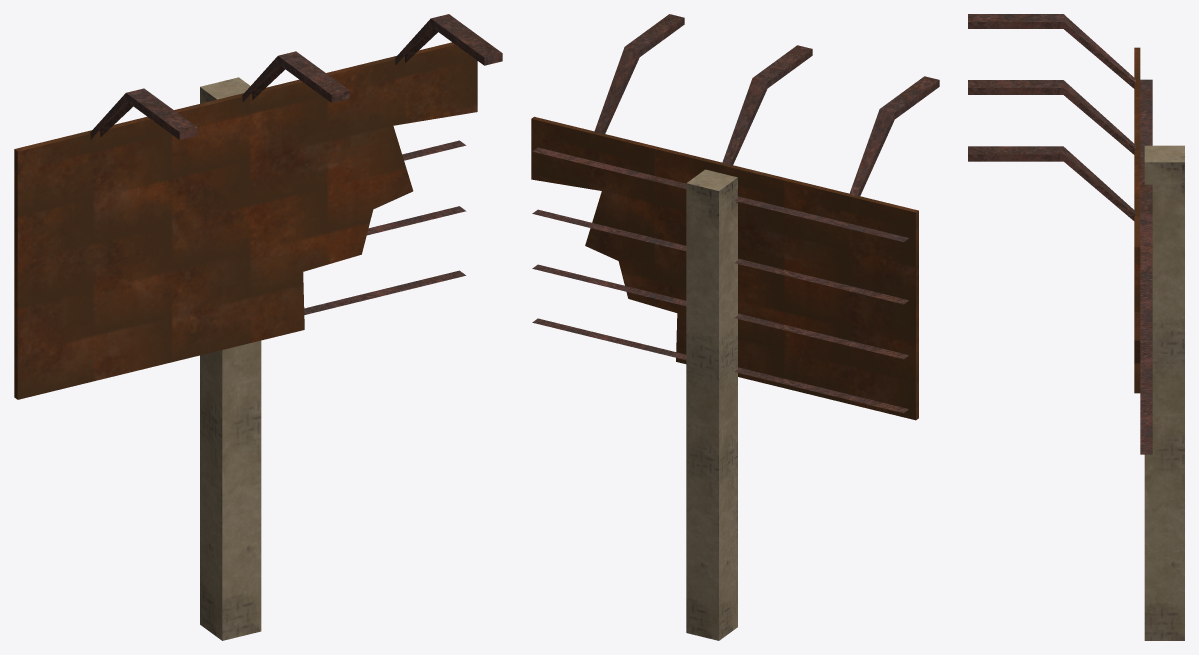
File: SM_Adv.FBX
The picture shows the model from 3 angles, left to right: view 1: azimuth 30°, elevation 25°; view 2: azimuth 150°, elevation 25°; view 3: azimuth 270°, elevation 25°; orthographic projection. The views are drawn at different scales.
Visible parts, largest first — view 1: SM_Adv; view 2: SM_Adv; view 3: SM_Adv.
Part boxes in pixels (<box>): SM_Adv: <box>14,14,502,640</box>; SM_Adv: <box>531,14,939,640</box>; SM_Adv: <box>968,14,1184,640</box>.
Size of the model in its own units: 362 by 166 by 463.
